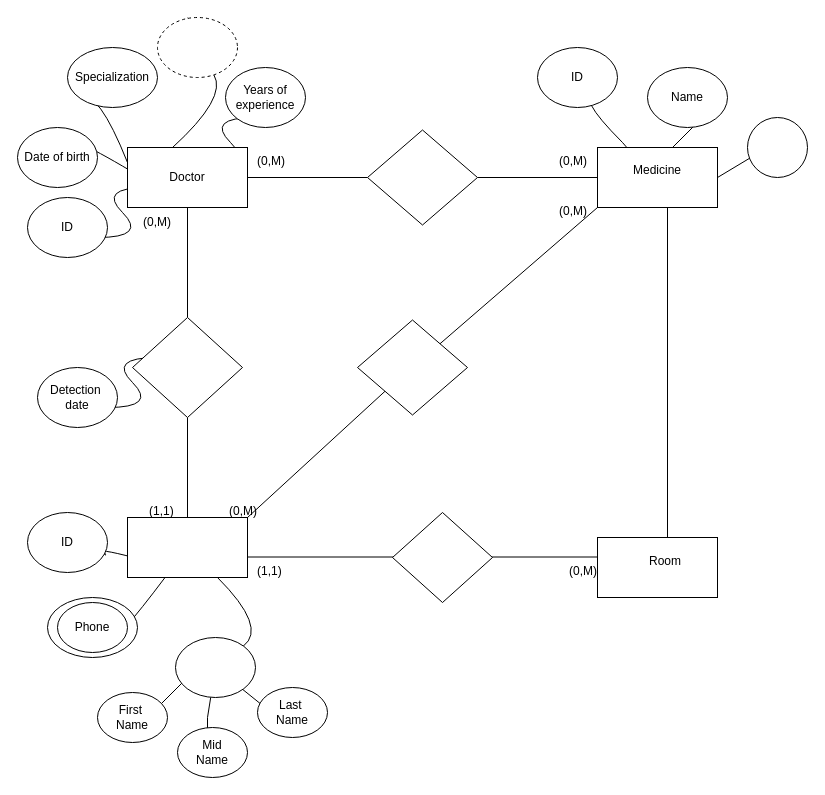
Some shapes in this 825 by 795 pixel diagram are drawn without their labels. Here are the shapes that lost their labels. From the top down, the box of each, then its label:
(156, 16, 238, 78): Age
(746, 116, 808, 178): price
(366, 129, 478, 225): Prescribe
(132, 316, 242, 418): Examination
(356, 319, 468, 415): Taking
(126, 516, 248, 578): Patient
(392, 512, 492, 602): sleep
(174, 636, 256, 698): Nmae
